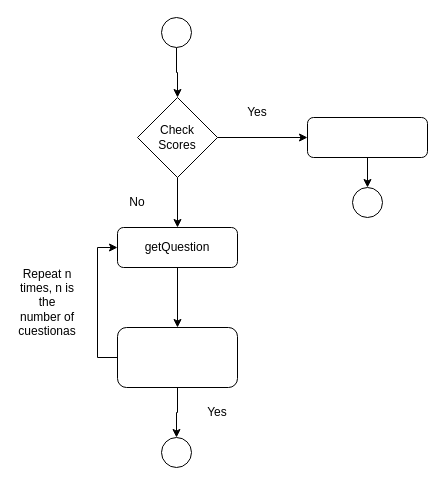
Some shapes in this 445 by 485 pixel diagram are drawn without their labels. Here are the shapes that lost their labels. From the top down, the box of each, then its label:
(306, 116, 428, 158): Scores
(116, 326, 238, 388): checkAnswer
